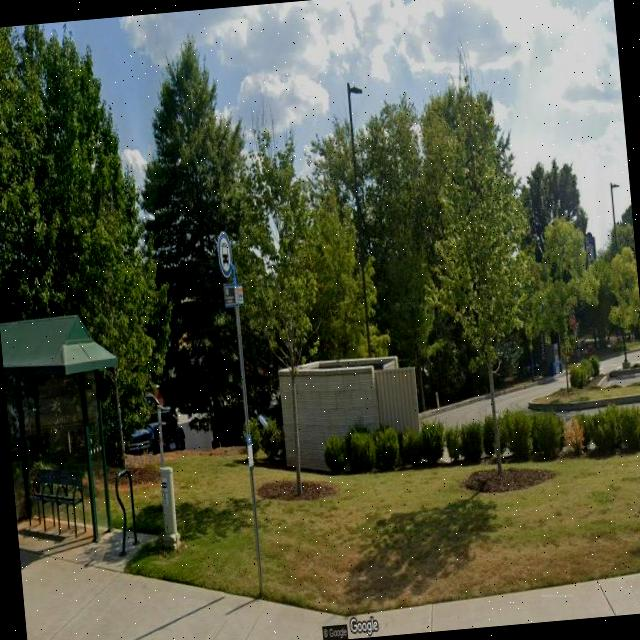seating: (24, 466, 88, 538)
shelter: (0, 308, 135, 564)
